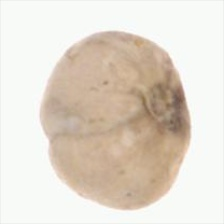L4: (39, 30, 192, 211)
